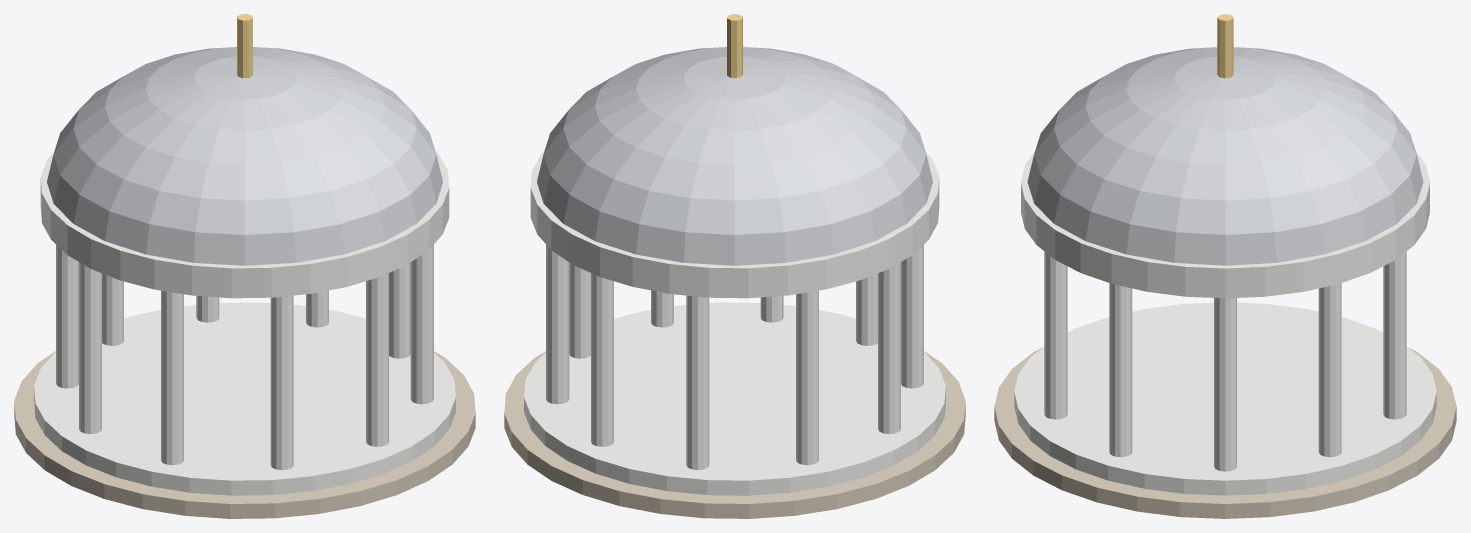
File: rotunda.glb
3 views of the same model, side by side, from view 1: azimuth 30°, elevation 25°; view 2: azimuth 150°, elevation 25°; view 3: azimuth 270°, elevation 25° (orthographic).
Visible parts, largest first — view 1: white, steel, stone_dark, gold; view 2: white, steel, stone_dark, gold; view 3: white, steel, stone_dark, gold.
Boxes of the visible parts, x1,y1,x2,y2 form: white: (34, 151, 455, 495); steel: (47, 47, 442, 265); stone_dark: (14, 351, 475, 518); gold: (237, 14, 252, 77); white: (524, 151, 945, 495); steel: (537, 47, 932, 265); stone_dark: (504, 351, 965, 518); gold: (727, 14, 742, 77); white: (1014, 151, 1436, 495); steel: (1027, 47, 1423, 265); stone_dark: (994, 347, 1456, 518); gold: (1217, 14, 1233, 78).
Size of the model in its own units: 14 by 13.5 by 14.
